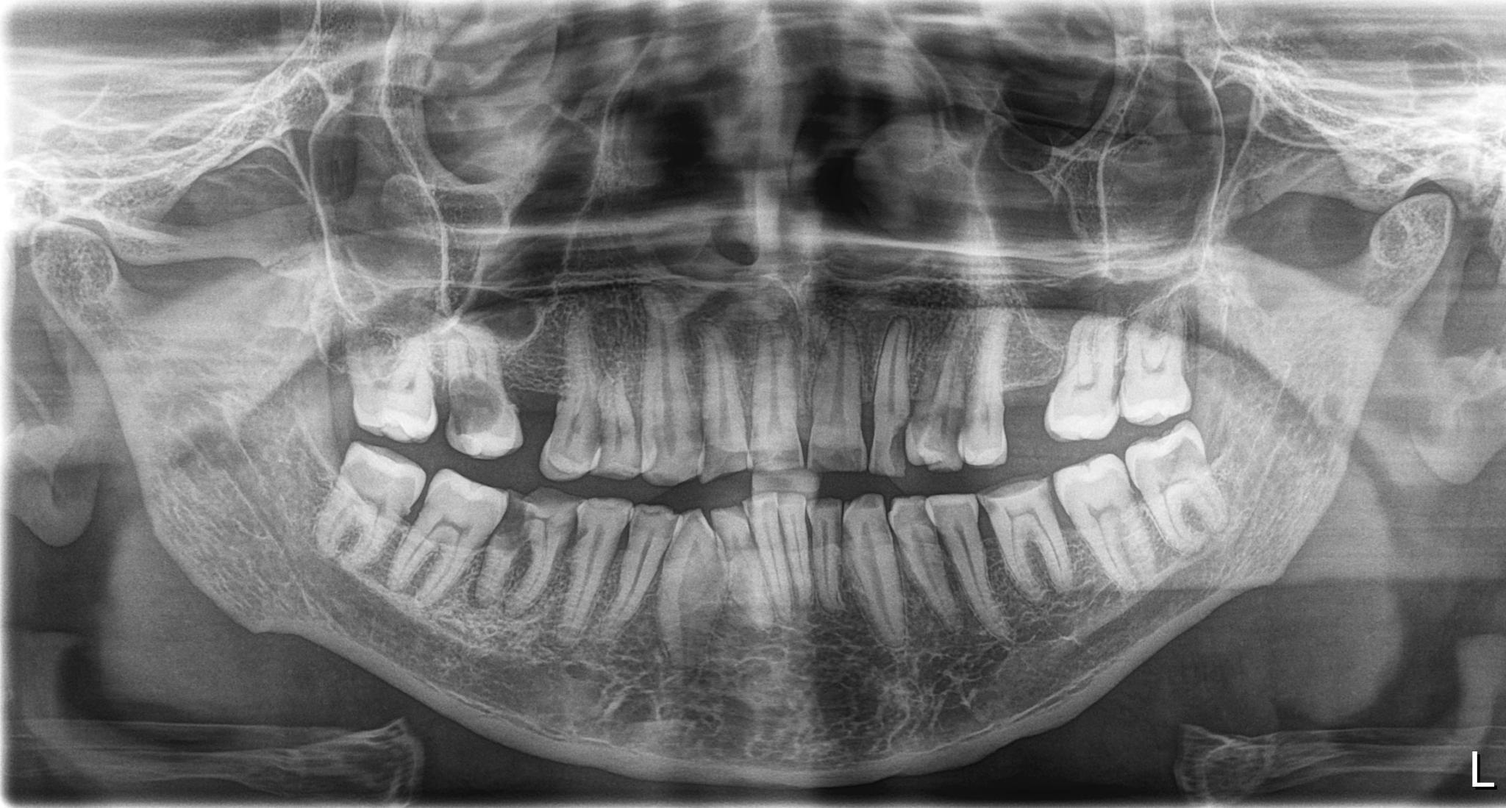Dental Caries: (877, 390, 966, 482), (439, 377, 507, 433), (498, 496, 538, 563)
Missing Tooth: (489, 322, 571, 435), (1006, 316, 1054, 461)
